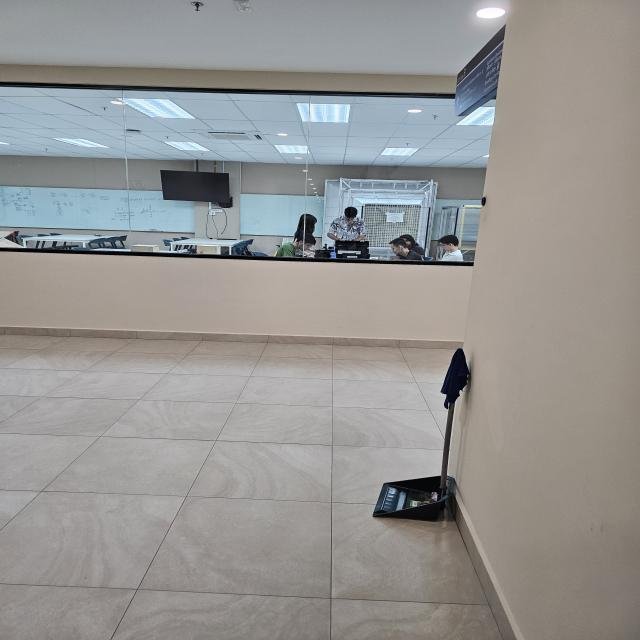footpath: (0, 342, 361, 637)
obstacle: (369, 346, 468, 524)
